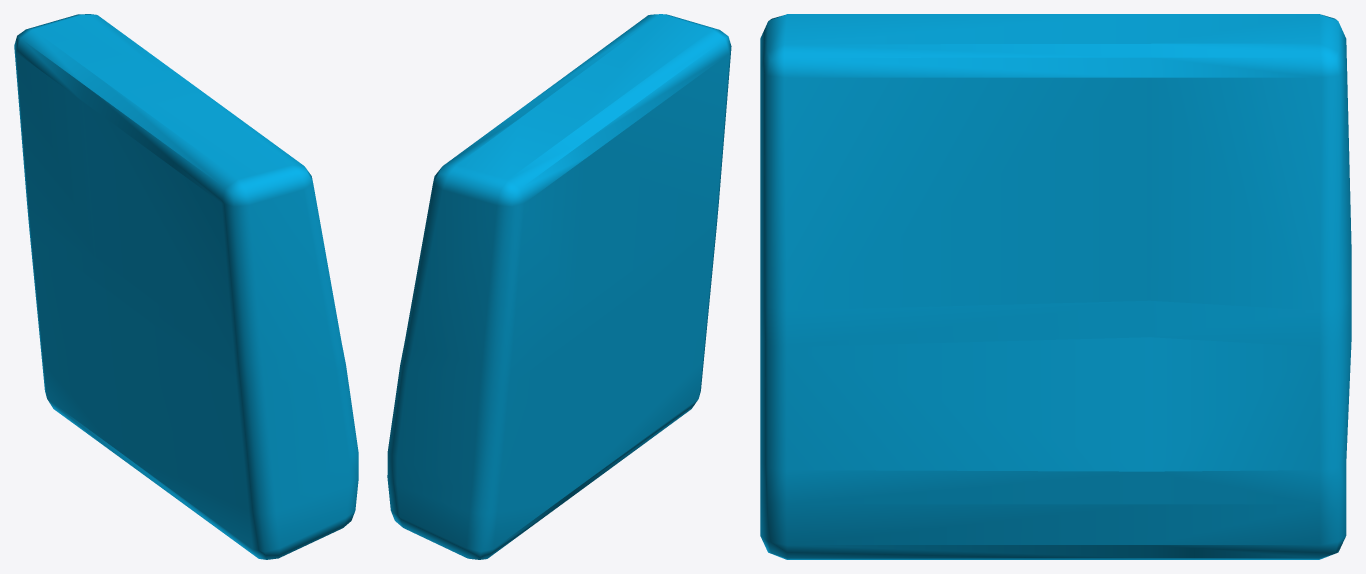
File: Sofa_01_Break_B_Lod0.fbx
The picture shows the model from 3 angles, left to right: view 1: azimuth 30°, elevation 25°; view 2: azimuth 150°, elevation 25°; view 3: azimuth 270°, elevation 25°; orthographic projection. The views are drawn at different scales.
Parts seen in each view (by area): view 1: Sofa_01_Break_B_Lod0; view 2: Sofa_01_Break_B_Lod0; view 3: Sofa_01_Break_B_Lod0.
Part boxes in pixels (box(x1,y1,x2,y2)): Sofa_01_Break_B_Lod0: box(14, 14, 358, 559); Sofa_01_Break_B_Lod0: box(387, 14, 731, 559); Sofa_01_Break_B_Lod0: box(760, 14, 1351, 559).
Size of the model in its own units: 30.02 by 81.46 by 86.29.
